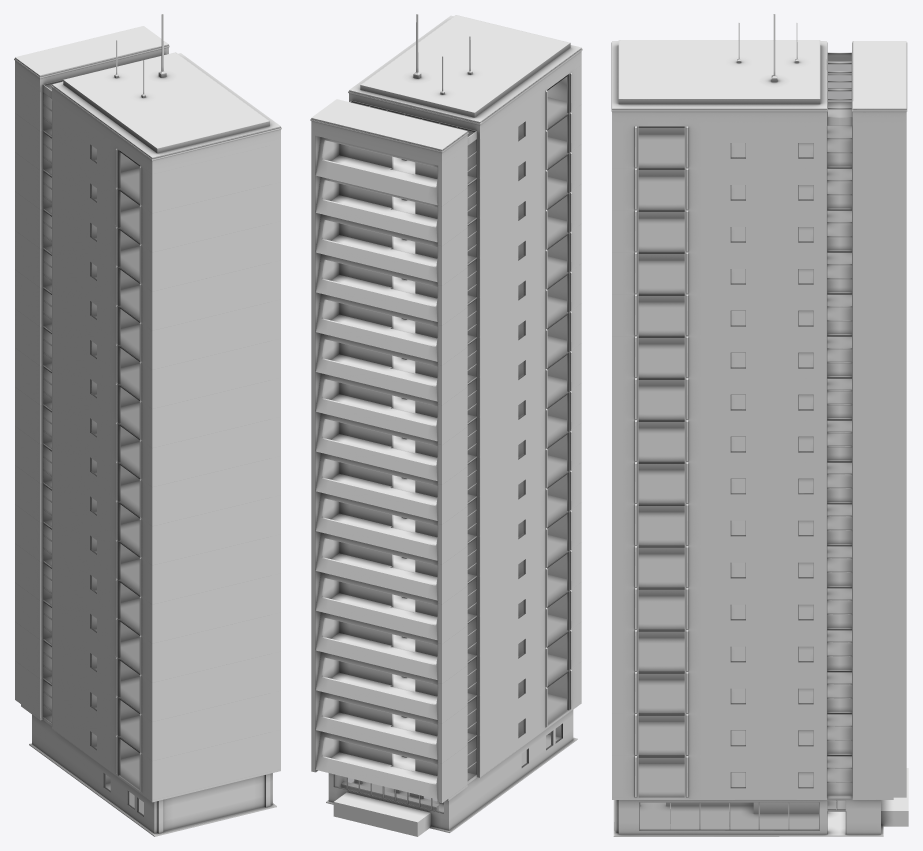
Rendered from residential_007.obj.
3 views of the same model, side by side, from view 1: azimuth 30°, elevation 25°; view 2: azimuth 150°, elevation 25°; view 3: azimuth 270°, elevation 25° (orthographic). The views are drawn at different scales.
Visible parts, largest first — view 1: Residential_Buildings_007_Cube.008; view 2: Residential_Buildings_007_Cube.008; view 3: Residential_Buildings_007_Cube.008.
Part boxes in pixels (x1,y1,x2,y2): Residential_Buildings_007_Cube.008: (14, 14, 281, 836); Residential_Buildings_007_Cube.008: (310, 14, 582, 836); Residential_Buildings_007_Cube.008: (611, 14, 908, 836).
Bounding box in the file's own units: 12.59 × 68.79 × 23.1.
Materials: 2 (1 with a texture image).
